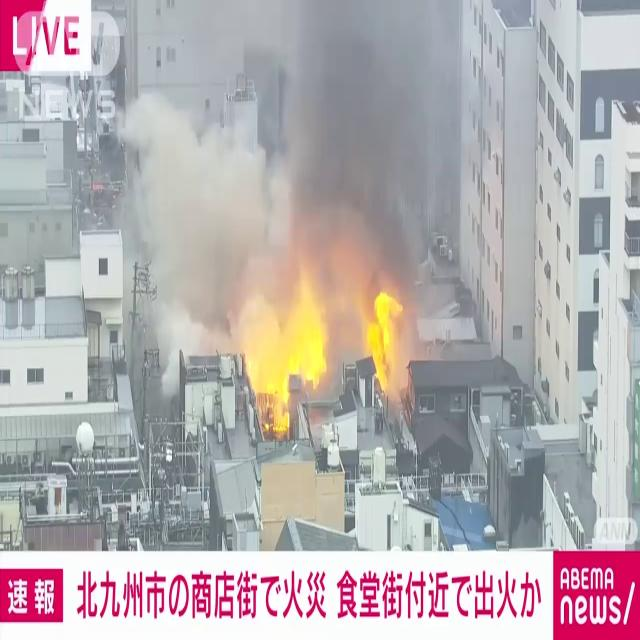Fire: (241, 260, 329, 433), (364, 282, 410, 394)
Smoke: (270, 1, 470, 310), (122, 84, 288, 336)
